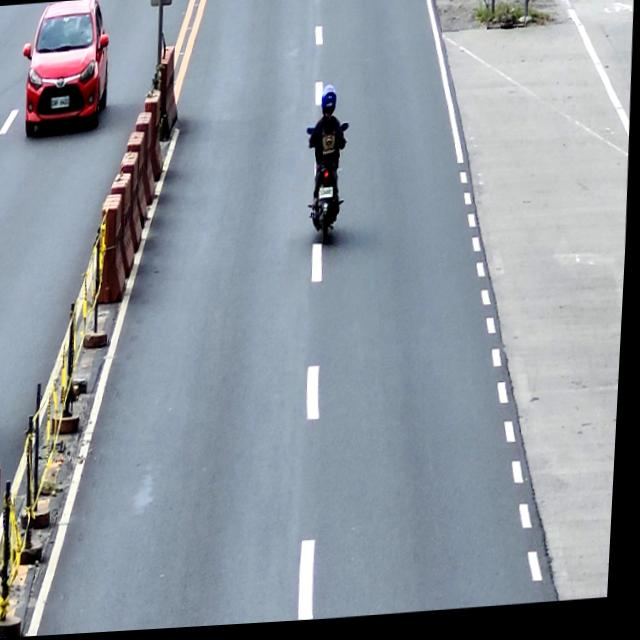Car: (18, 0, 111, 137)
License-Plate: (50, 95, 71, 109), (319, 189, 337, 204)
Motorcycle: (303, 125, 352, 250)
